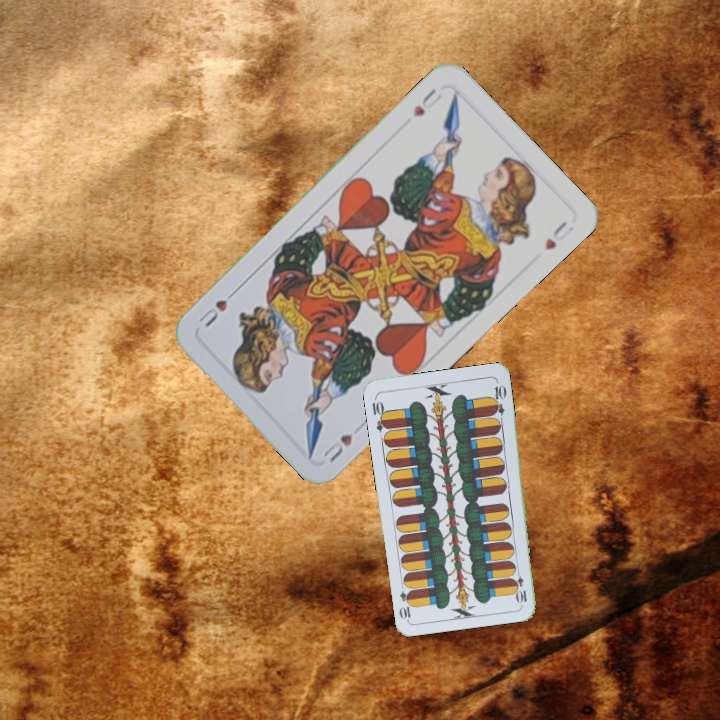E10: (368, 394, 391, 434), (511, 565, 529, 605)
HU: (408, 84, 445, 120), (319, 430, 355, 466)
